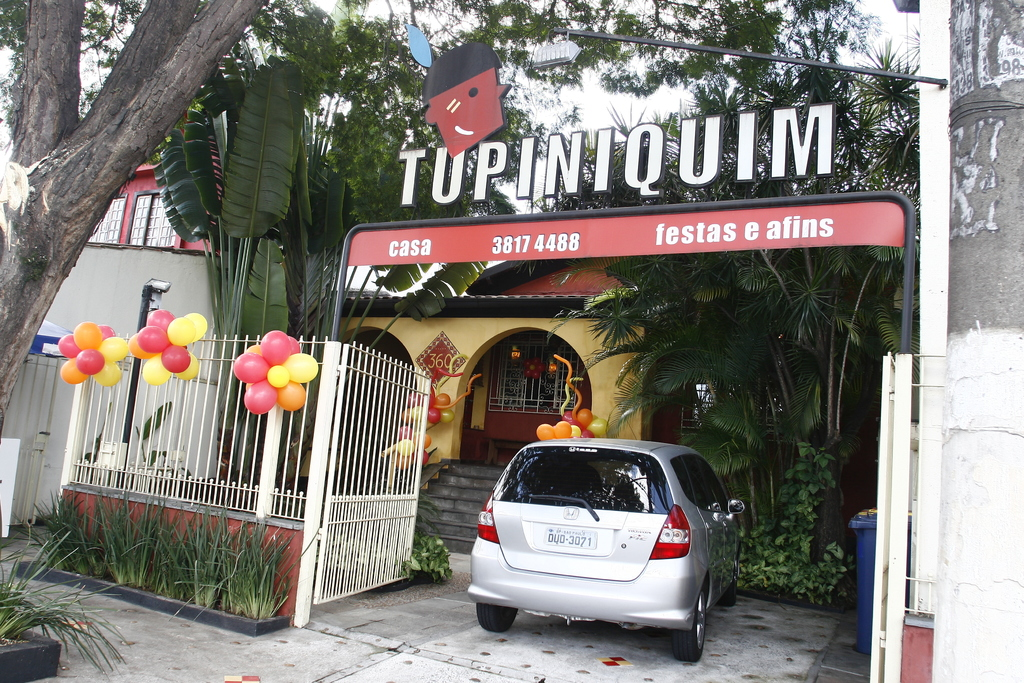Car: (464, 404, 745, 662)
